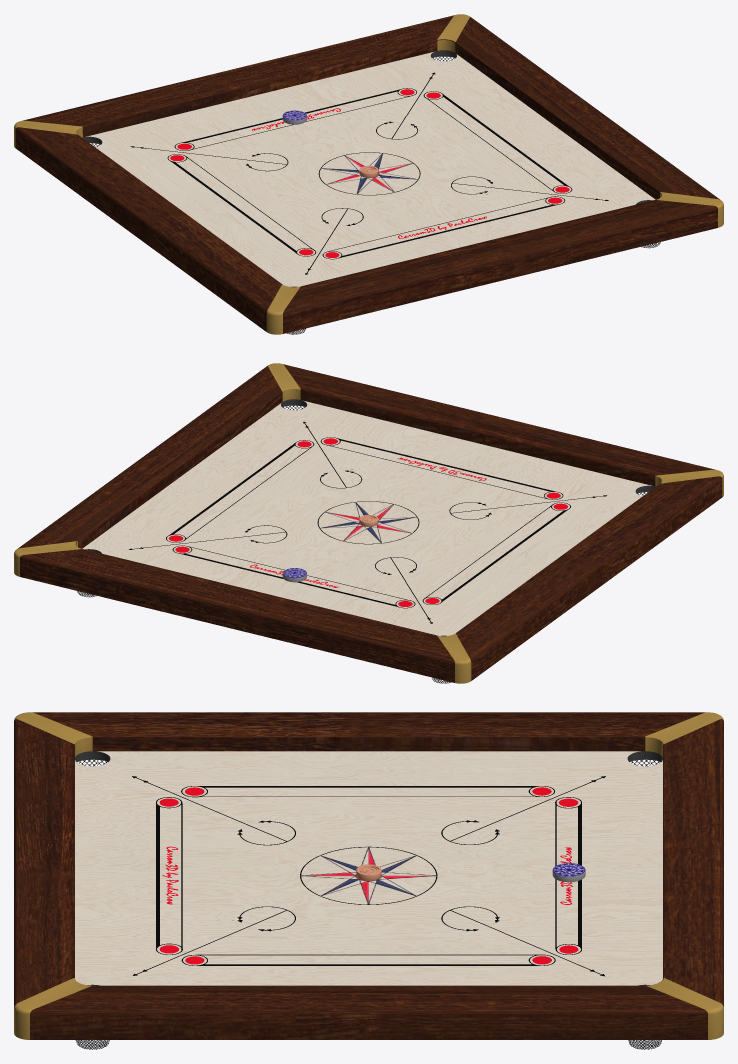
The model's file is carrom2-draco.glb.
The picture shows the model from 3 angles, top to bottom: view 1: azimuth 30°, elevation 25°; view 2: azimuth 150°, elevation 25°; view 3: azimuth 270°, elevation 25°; orthographic projection. The views are drawn at different scales.
Visible parts, largest first — view 1: mesh_board_surface, mesh_board_frame, mesh_board_pattern; view 2: mesh_board_surface, mesh_board_frame, mesh_board_pattern; view 3: mesh_board_surface, mesh_board_frame, mesh_board_pattern, mesh_pockets, mesh_striker.
Part boxes in pixels (x1,y1,x2,y2): mesh_board_surface: (84, 51, 655, 287); mesh_board_frame: (14, 14, 723, 334); mesh_board_pattern: (130, 72, 608, 274); mesh_board_surface: (82, 400, 654, 636); mesh_board_frame: (14, 363, 723, 683); mesh_board_pattern: (129, 422, 606, 623); mesh_board_surface: (75, 751, 662, 985); mesh_board_frame: (14, 712, 723, 1039); mesh_board_pattern: (132, 776, 605, 976); mesh_pockets: (75, 758, 661, 1049); mesh_striker: (552, 863, 585, 882).
Bounding box in the file's own units: 0.887 × 0.09 × 0.887.
11 materials, 5 textured.
